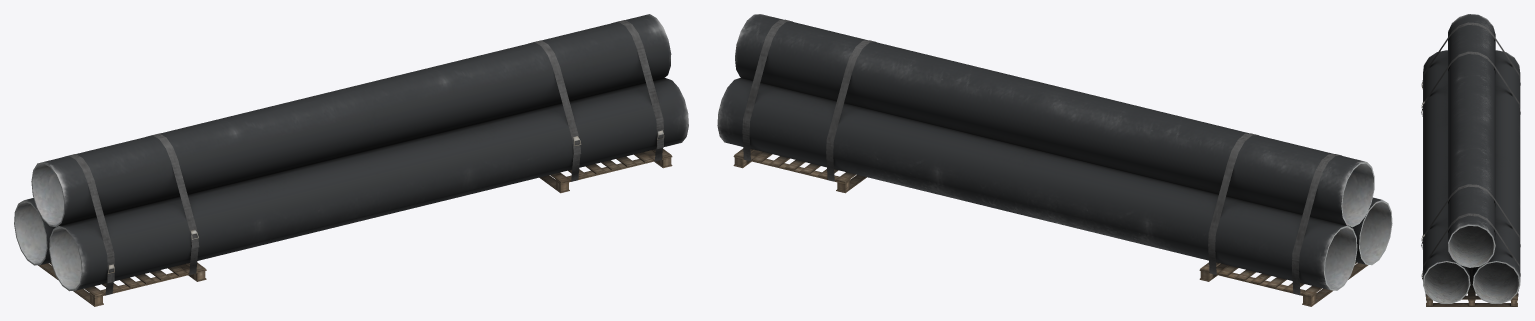
The model's file is pipes_on_pallets.glb.
3 renders of one model, left to right at view 1: azimuth 30°, elevation 25°; view 2: azimuth 150°, elevation 25°; view 3: azimuth 270°, elevation 25°, orthographic. The views are drawn at different scales.
Parts seen in each view (by area): view 1: Plane_0; view 2: Plane_0; view 3: Plane_0.
Part boxes in pixels (x1,y1,x2,y2): Plane_0: (14,14,688,306); Plane_0: (717,14,1392,306); Plane_0: (1421,14,1520,306).
Bounding box in the file's own units: 6.51 × 1.26 × 1.29.
Materials: 1 (1 with a texture image).
